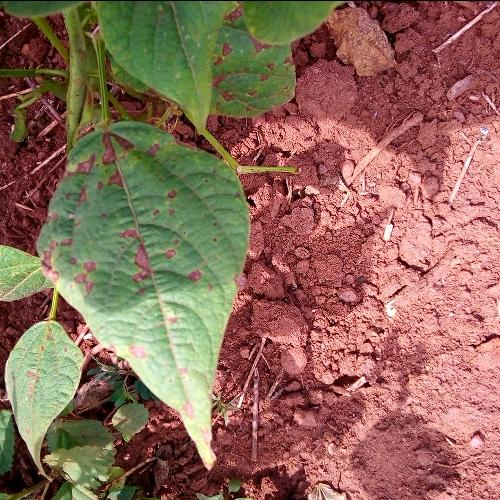hawar: (125, 178, 209, 316), (39, 226, 102, 304), (98, 131, 157, 160), (70, 159, 92, 209)
